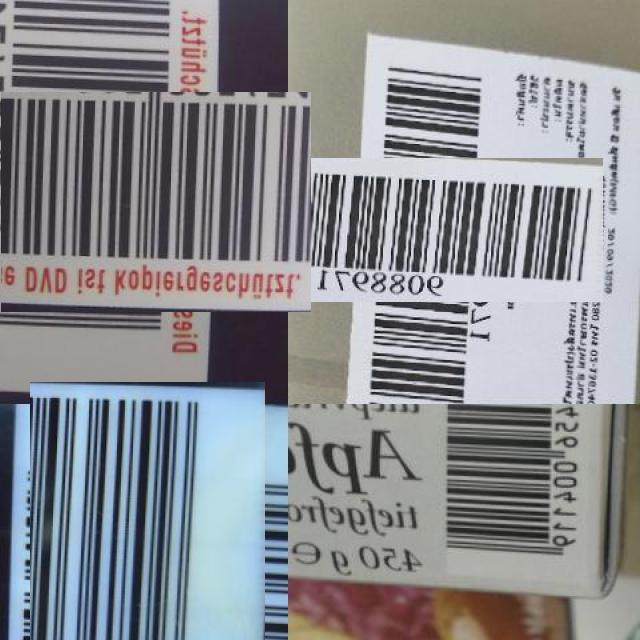Barcode: (0, 46, 266, 358), (19, 393, 277, 640), (306, 107, 552, 353), (433, 404, 596, 576)
